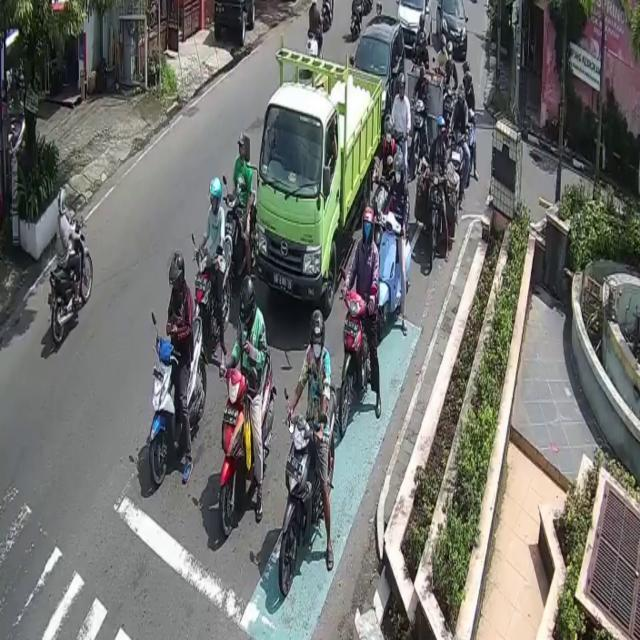car: (351, 14, 406, 142), (399, 0, 435, 57), (436, 0, 469, 59)
motorbike: (279, 383, 339, 596), (148, 313, 208, 488), (221, 349, 276, 537), (50, 215, 93, 349), (339, 294, 380, 434), (190, 234, 233, 344), (376, 210, 409, 334), (221, 190, 256, 278), (428, 165, 447, 264), (412, 101, 430, 176), (448, 133, 467, 195)
truck: (256, 45, 384, 313)
